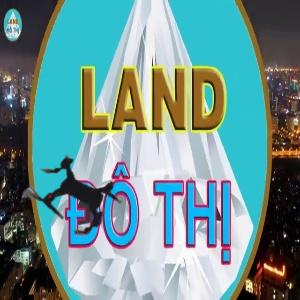drone: (3, 126, 148, 271)
